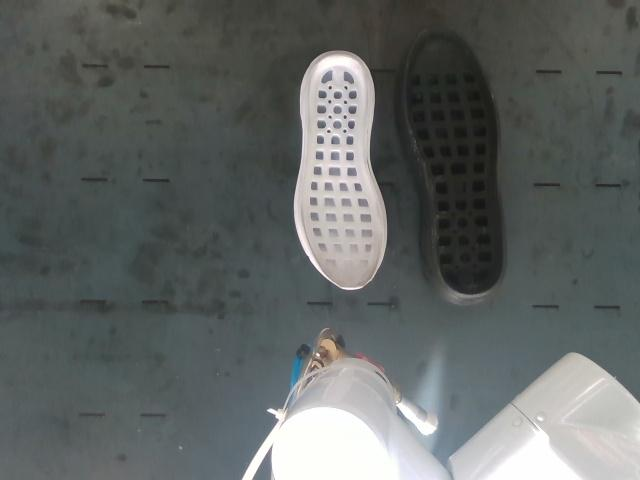shoes: (406, 24, 505, 295), (300, 55, 383, 289)
